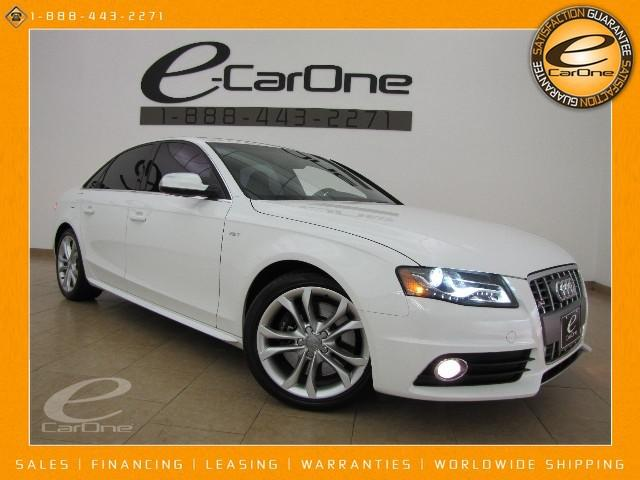Car: (29, 112, 604, 435)
